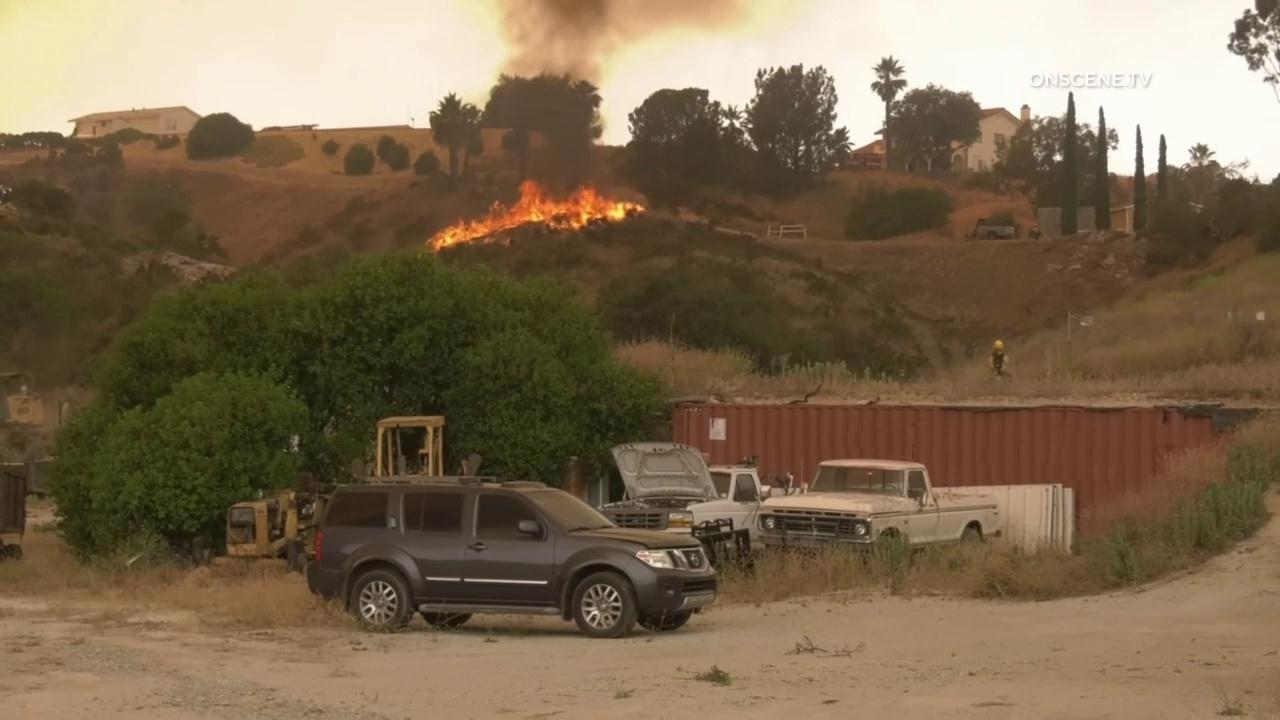fire: (424, 179, 644, 255)
smoke: (424, 0, 758, 232)
